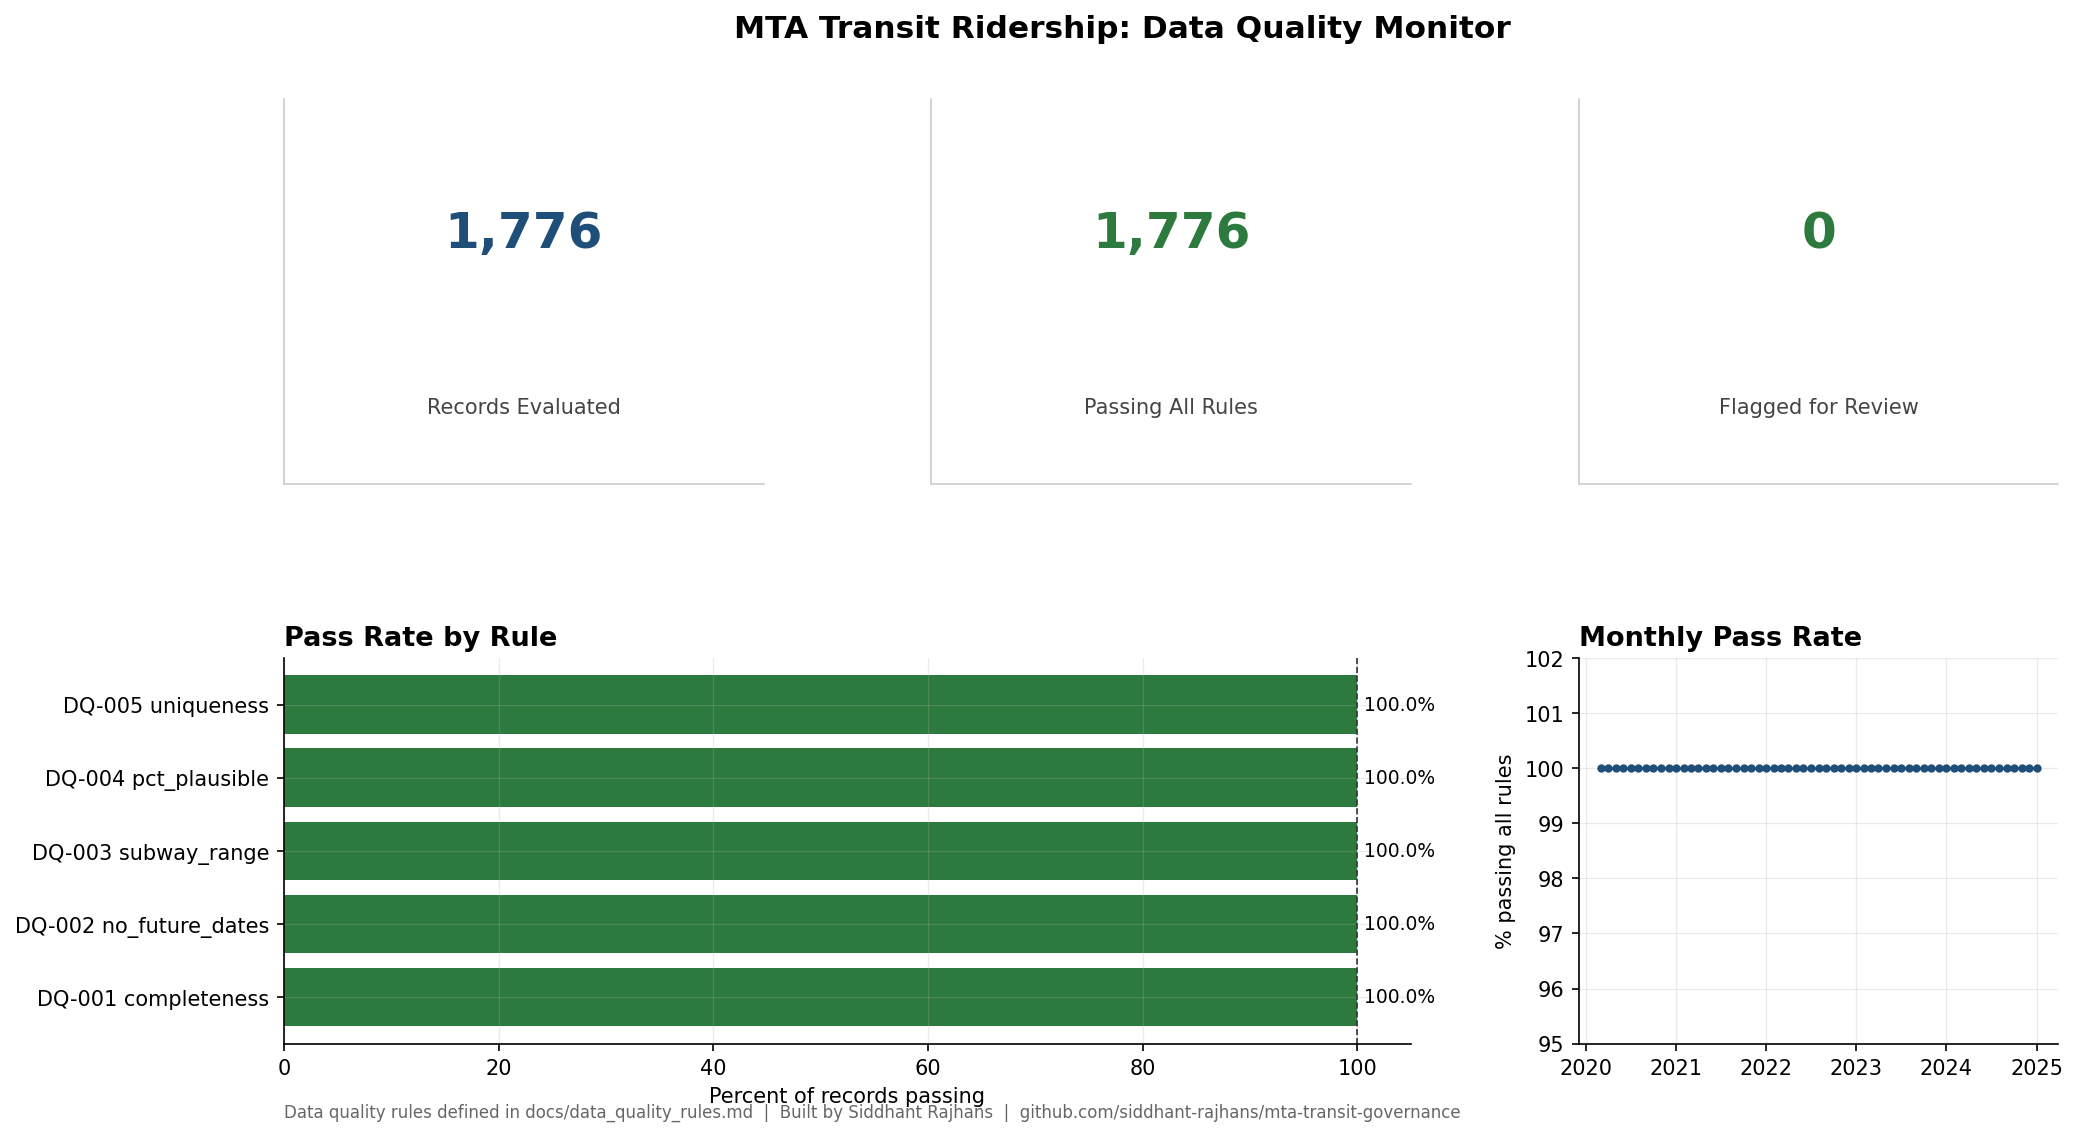

What the dashboard file says about the page in this screenshot:
{"tool":"powerbi","page":{"name":"Data Quality","canvas":[1280,720],"ordinal":1},"visuals":[{"type":"cardVisual","fields":{"Data":["_Measures.Days Evaluated"]},"box":[30,110,390,150],"z":0},{"type":"cardVisual","fields":{"Data":["_Measures.Passing All Rules"]},"box":[445,110,390,150],"z":1},{"type":"cardVisual","fields":{"Data":["_Measures.Flagged for Review"]},"box":[860,110,390,150],"z":2},{"type":"clusteredBarChart","title":"Pass Rate by Rule (% of records passing)","fields":{"Y":["_Measures.DQ-001 Pass Rate","_Measures.DQ-002 Pass Rate","_Measures.DQ-003 Pass Rate","_Measures.DQ-004 Pass Rate","_Measures.DQ-005 Pass Rate"]},"box":[30,290,610,350],"z":3},{"type":"lineChart","title":"Pass Rate Over Time (% passing all rules)","fields":{"Y":["_Measures.Pass Rate %"],"Category":["dq_results.date"]},"box":[660,290,590,350],"z":4},{"type":"textbox","box":[30,18,1180,80],"z":5},{"type":"textbox","box":[30,688,1180,30],"z":6}]}

Visuals, with their boxes in screenshot pixels (x1, y1, x2, y2), scaled from the page's 1280x720 canvas onto the 2078x1136 screenshot:
cardVisual - _Measures.Days Evaluated: [x1=49, y1=174, x2=682, y2=410]
cardVisual - _Measures.Passing All Rules: [x1=722, y1=174, x2=1356, y2=410]
cardVisual - _Measures.Flagged for Review: [x1=1396, y1=174, x2=2029, y2=410]
"Pass Rate by Rule (% of records passing)" clusteredBarChart: [x1=49, y1=458, x2=1039, y2=1010]
"Pass Rate Over Time (% passing all rules)" lineChart: [x1=1071, y1=458, x2=2029, y2=1010]
textbox: [x1=49, y1=28, x2=1964, y2=155]
textbox: [x1=49, y1=1086, x2=1964, y2=1133]
